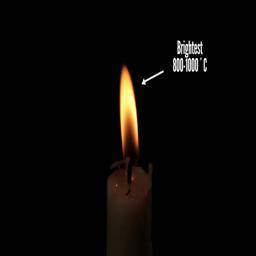fire: (119, 67, 140, 153)
